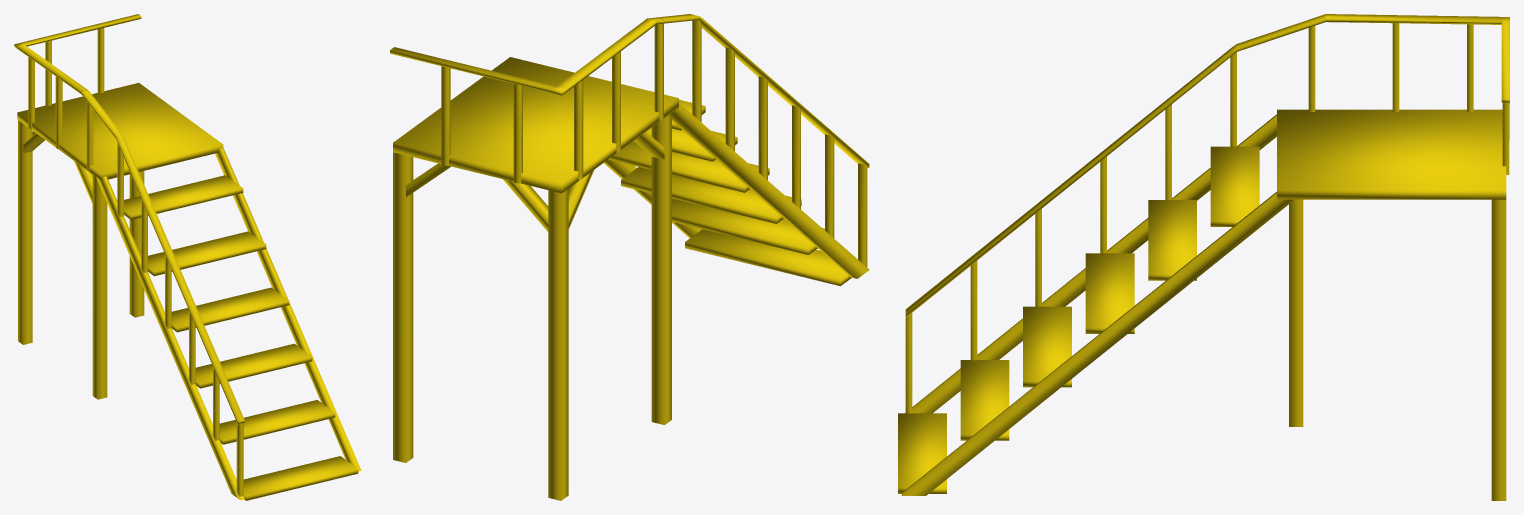
Rendered from mod_escalera.fbx.
3 renders of one model, left to right at view 1: azimuth 30°, elevation 25°; view 2: azimuth 150°, elevation 25°; view 3: azimuth 270°, elevation 25°, orthographic. The views are drawn at different scales.
Parts seen in each view (by area): view 1: Cube.077; view 2: Cube.077; view 3: Cube.077.
Part boxes in pixels (x1,y1,x2,y2): Cube.077: [14, 14, 361, 500]; Cube.077: [390, 14, 869, 500]; Cube.077: [898, 14, 1509, 500].
Size of the model in its own units: 137 by 313 by 429.
